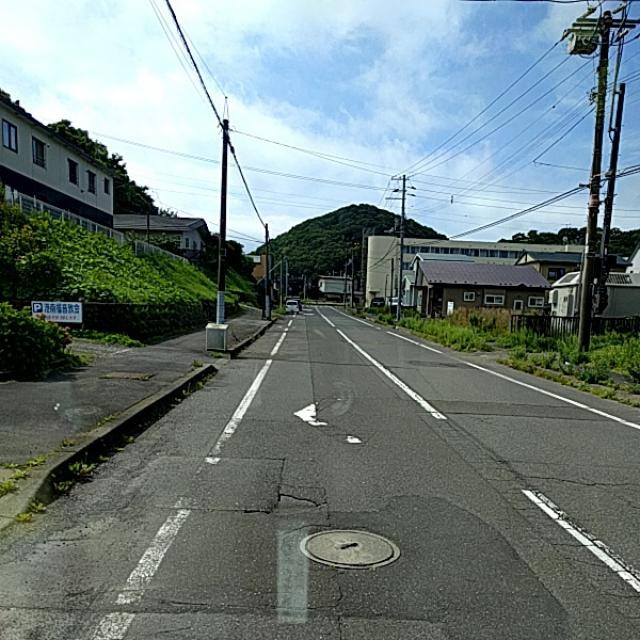pothole: (461, 449, 639, 596)
